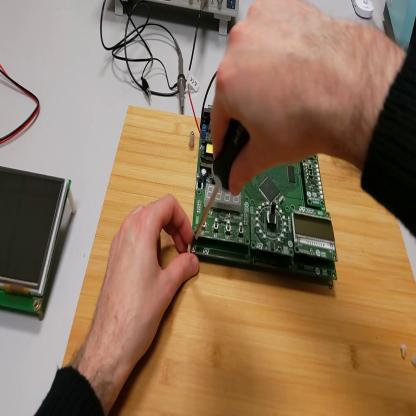hand: (209, 2, 353, 196), (94, 196, 199, 371)
low voltage board: (191, 71, 338, 284)
oscilloscope: (114, 1, 242, 38)
oscilloscope probe tip: (175, 42, 189, 113)
screwdriver-: (189, 116, 254, 244)
welder station: (386, 1, 416, 60)
working area: (64, 106, 416, 415)
